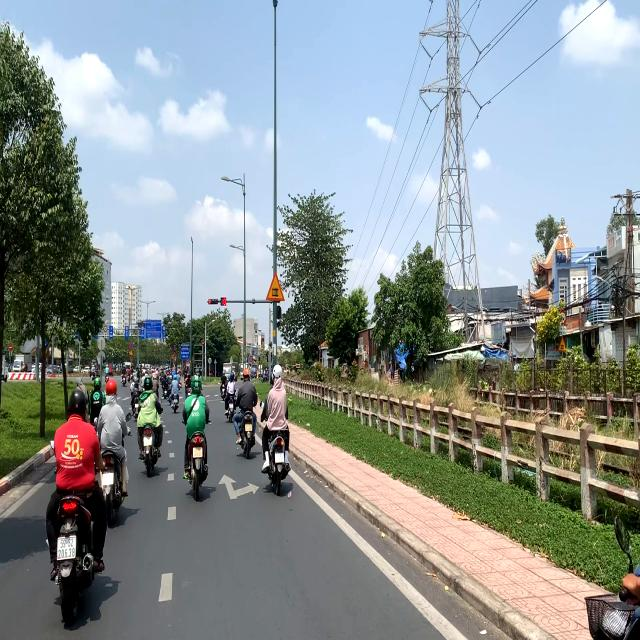P.102: (8, 344, 12, 351)
P.127: (104, 325, 108, 332), (125, 326, 128, 331), (141, 326, 144, 331), (162, 326, 165, 331)
P.130: (129, 342, 133, 349)
W.210: (266, 271, 286, 302)
